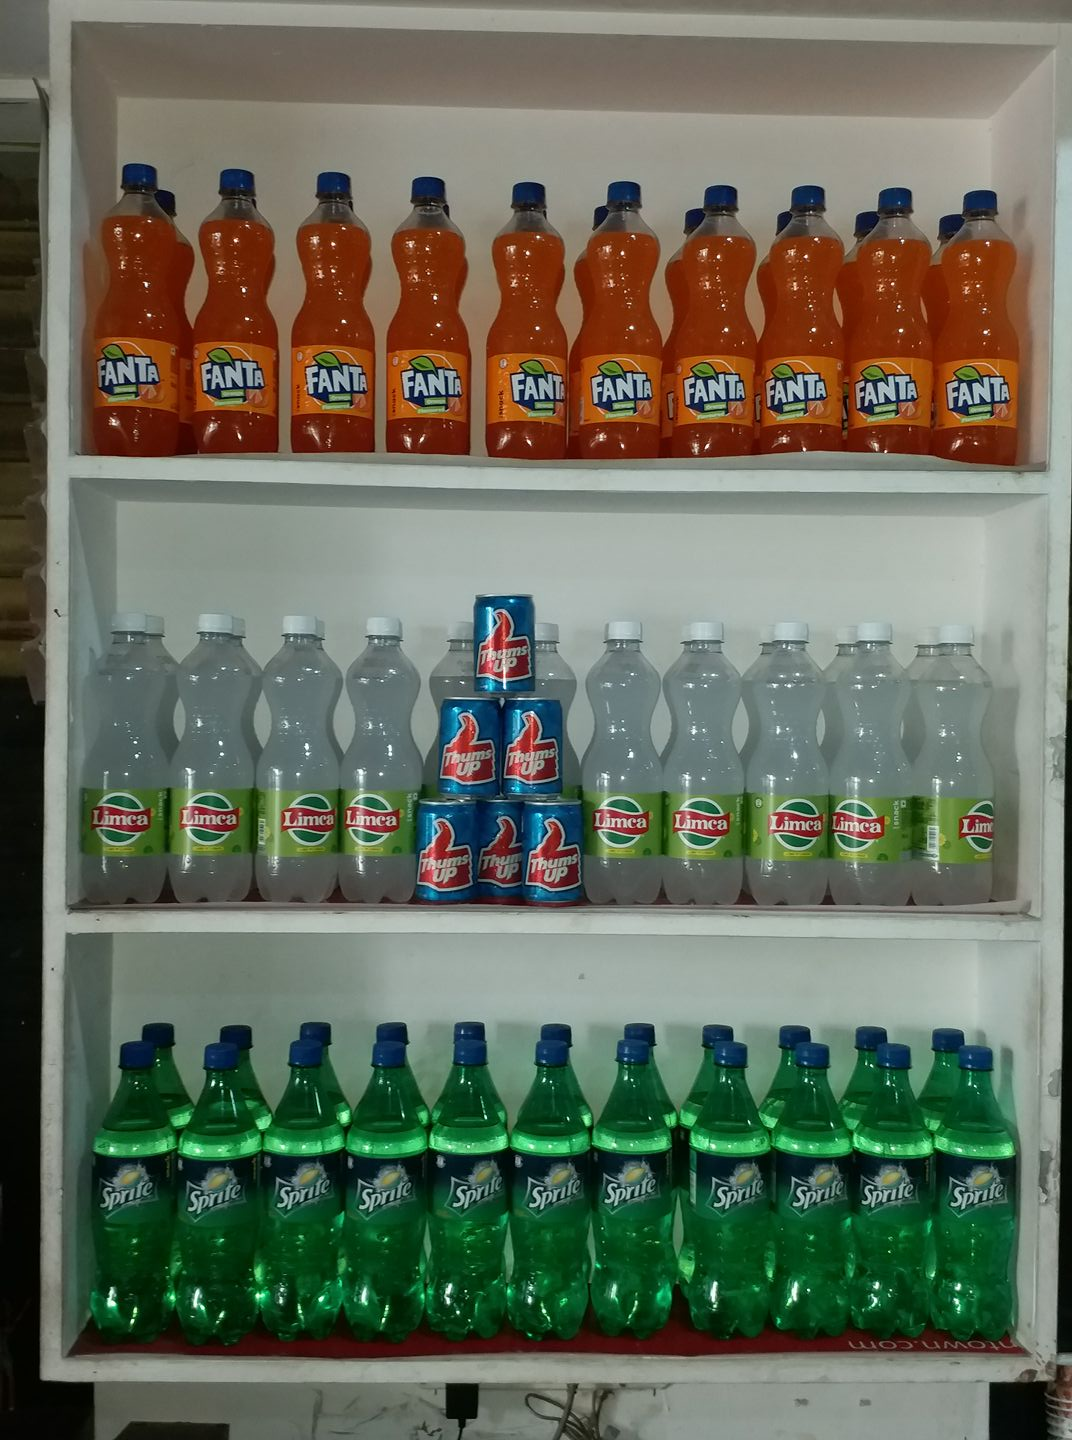fanta: (92, 345, 160, 391), (198, 358, 267, 399), (941, 374, 1013, 412), (760, 372, 830, 409), (301, 363, 369, 399), (852, 373, 921, 409), (587, 372, 656, 406), (680, 372, 750, 406), (397, 367, 466, 401)
limca: (589, 802, 654, 841), (175, 799, 244, 835), (668, 805, 736, 839), (87, 798, 152, 833), (765, 807, 825, 844), (828, 808, 885, 847), (342, 802, 402, 837), (280, 807, 338, 838)
sprite: (354, 1175, 416, 1218), (273, 1174, 334, 1214), (602, 1172, 662, 1213), (529, 1175, 581, 1218), (186, 1182, 244, 1219), (711, 1178, 767, 1215), (860, 1178, 919, 1213), (945, 1182, 1007, 1215), (789, 1180, 847, 1215), (452, 1175, 502, 1215), (101, 1178, 155, 1214)
thumsup: (502, 712, 559, 789), (418, 819, 475, 894), (528, 816, 582, 894), (440, 713, 495, 788), (479, 609, 531, 685), (477, 819, 522, 891)
